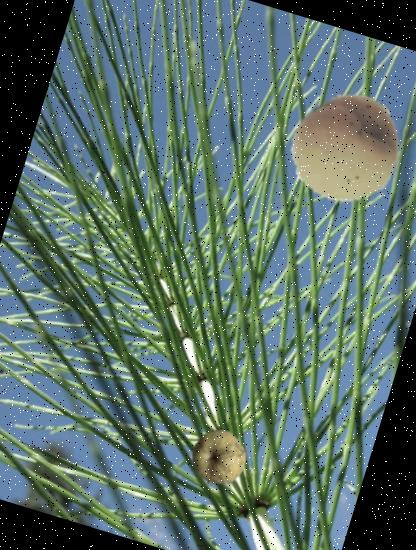Apple: (184, 423, 254, 493)
Peach: (277, 79, 416, 220)
